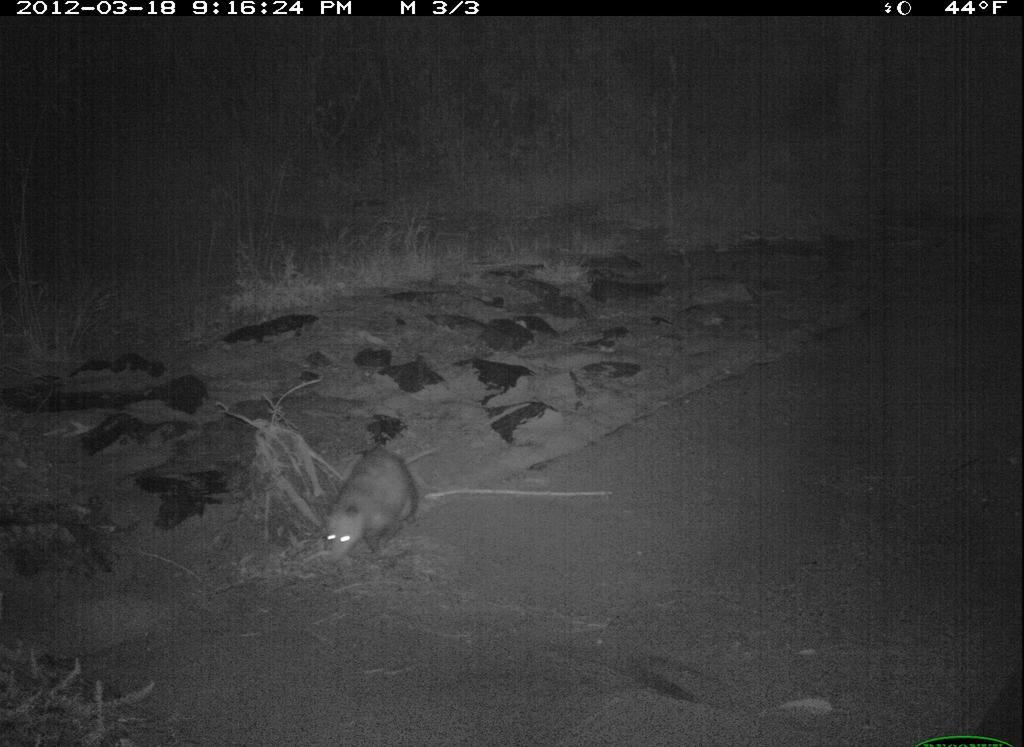opossum: (319, 425, 452, 570)
